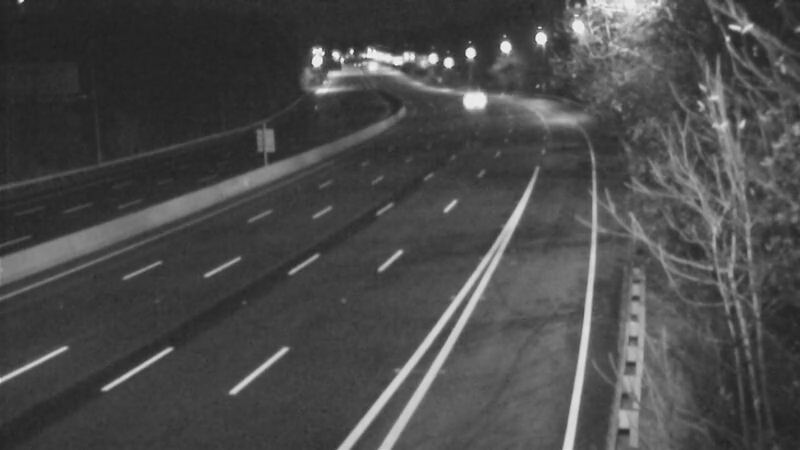vehicle: (445, 71, 495, 121)
